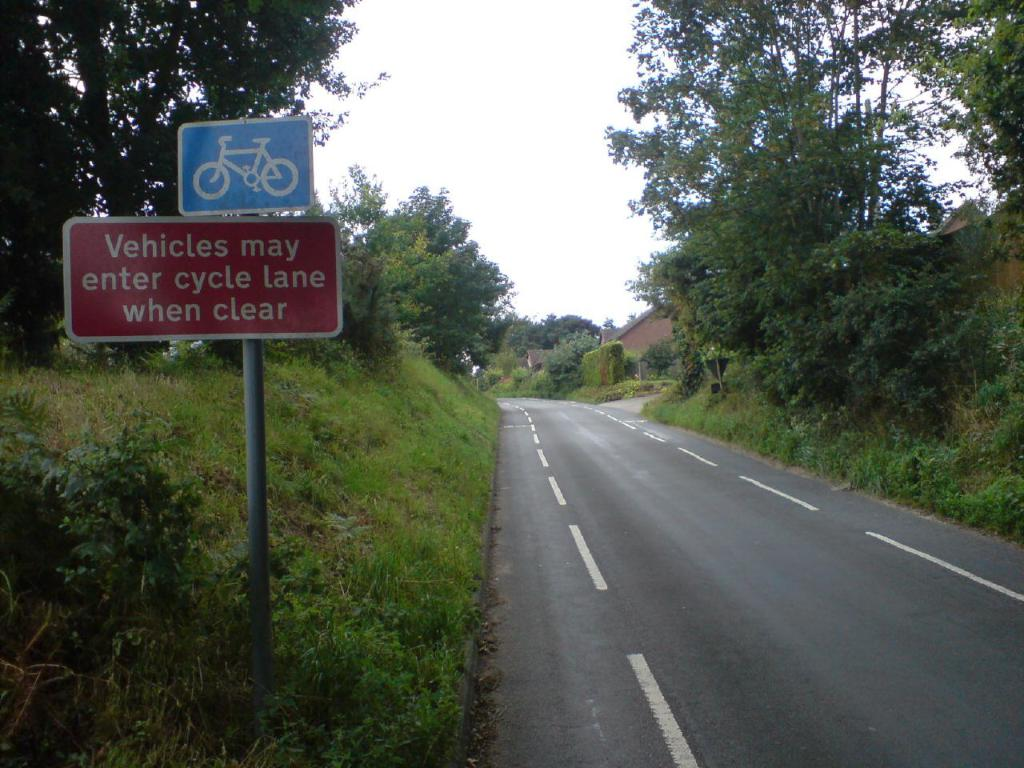Tree: (601, 0, 1024, 424), (0, 0, 392, 367), (283, 164, 516, 377), (468, 309, 619, 386)
